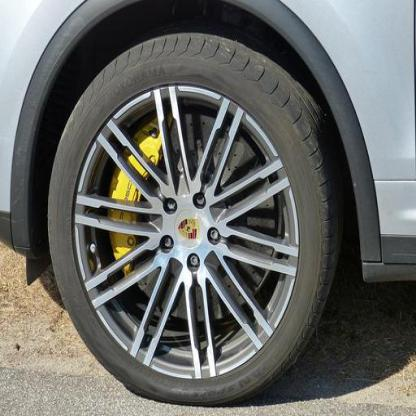Tire: (46, 30, 341, 407)
